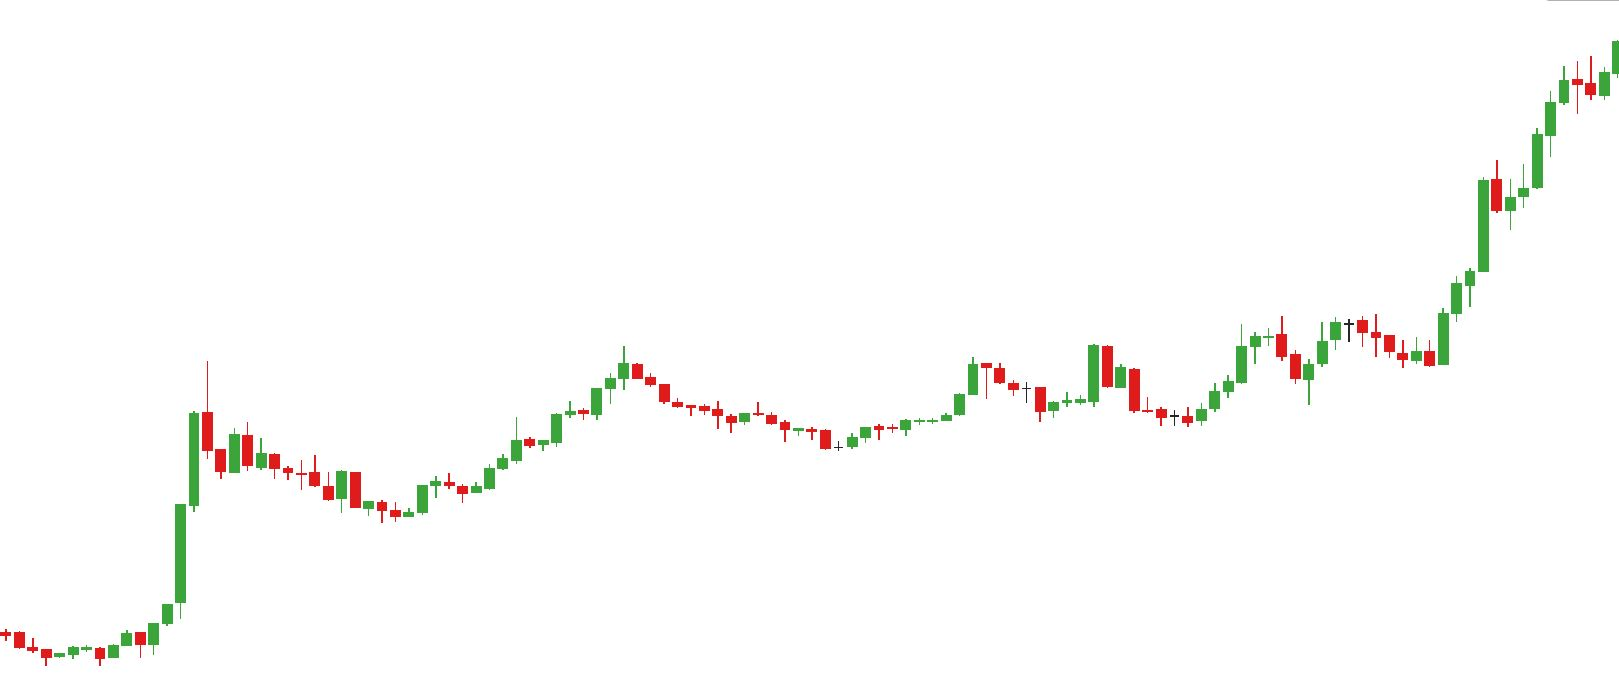sell: (964, 341, 1115, 407)
